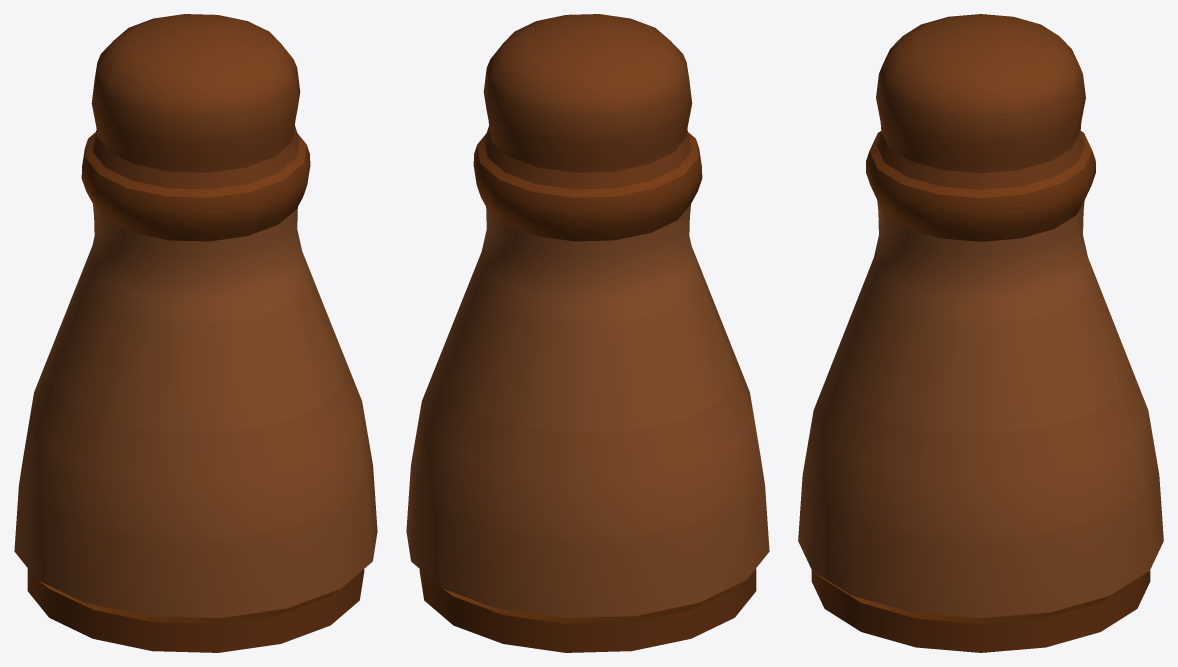
The model's file is PepperShaker.glb.
The picture shows the model from 3 angles, left to right: view 1: azimuth 30°, elevation 25°; view 2: azimuth 150°, elevation 25°; view 3: azimuth 270°, elevation 25°; orthographic projection.
Parts seen in each view (by area): view 1: PepperShaker; view 2: PepperShaker; view 3: PepperShaker.
Boxes of the visible parts, x1,y1,x2,y2 form: PepperShaker: (14, 14, 377, 652); PepperShaker: (406, 14, 769, 652); PepperShaker: (798, 14, 1163, 652).
Bounding box in the file's own units: 0.1038 × 0.1719 × 0.1038.
1 material, 1 textured.
